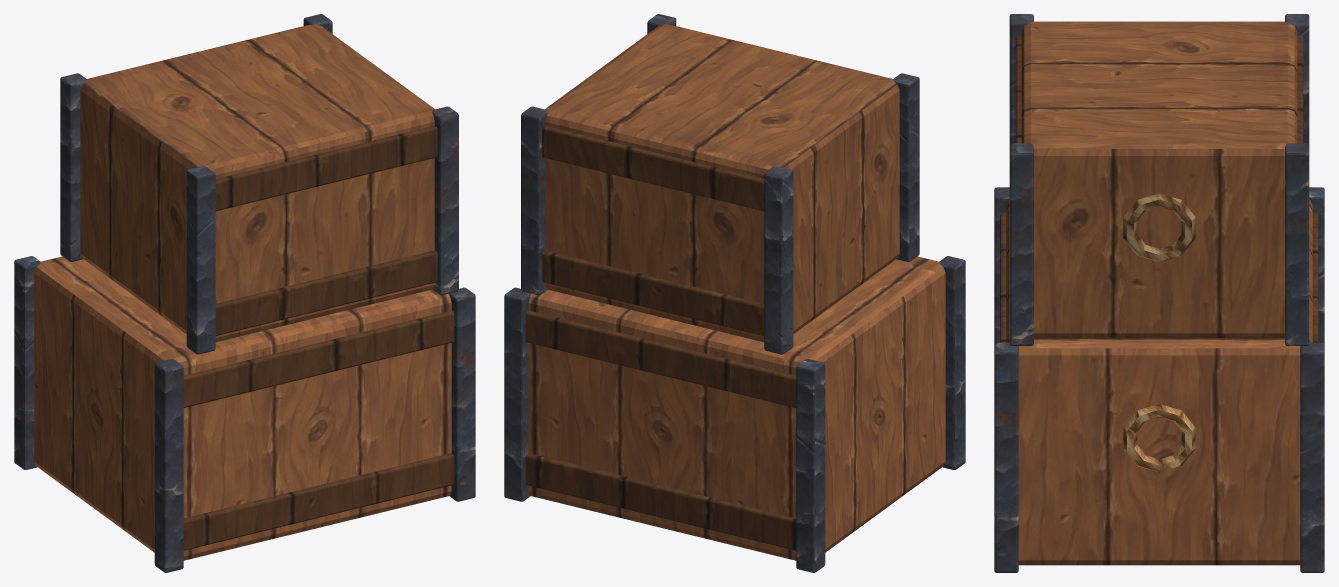
Rendered from crate_stack.glb.
3 renders of one model, left to right at view 1: azimuth 30°, elevation 25°; view 2: azimuth 150°, elevation 25°; view 3: azimuth 270°, elevation 25°, orthographic. The views are drawn at different scales.
Parts seen in each view (by area): view 1: model; view 2: model; view 3: model.
Part boxes in pixels (left/top/right/bottom): model: left=14, top=14, right=475, bottom=572; model: left=504, top=14, right=965, bottom=572; model: left=994, top=14, right=1324, bottom=572.
Size of the model in its own units: 0.6404 by 0.75 by 0.54.
6 materials, 6 textured.
